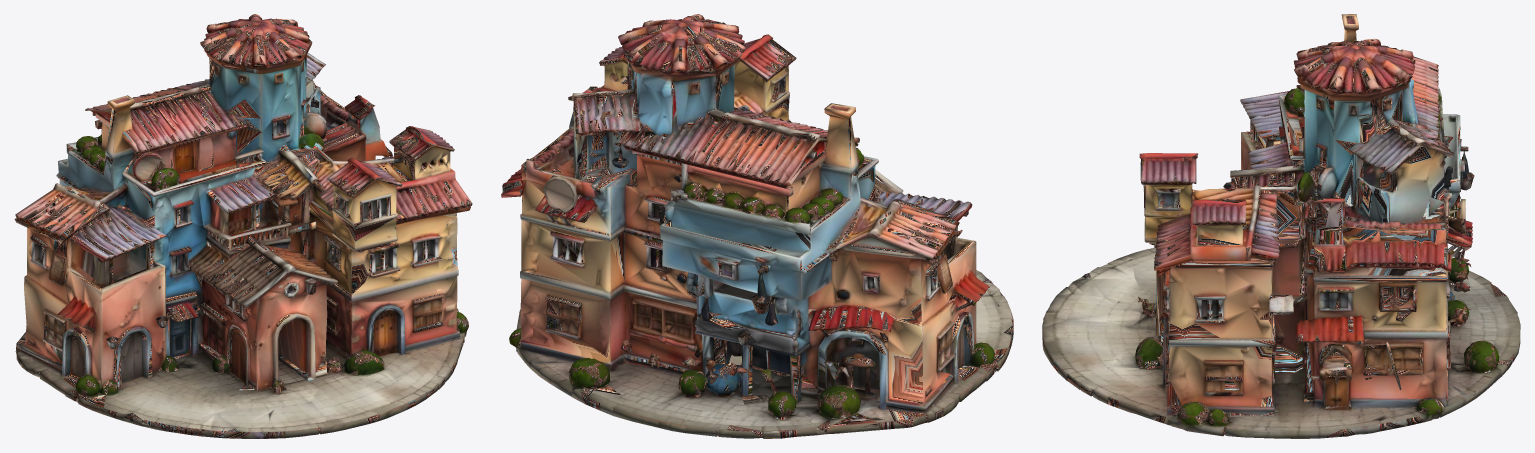
The model's file is Colorful_Courtyard_Vi.glb.
3 renders of one model, left to right at view 1: azimuth 30°, elevation 25°; view 2: azimuth 150°, elevation 25°; view 3: azimuth 270°, elevation 25°, orthographic. The views are drawn at different scales.
Visible parts, largest first — view 1: Colorful_Courtyard_Vi; view 2: Colorful_Courtyard_Vi; view 3: Colorful_Courtyard_Vi.
Boxes of the visible parts, left/top/right/bottom form: Colorful_Courtyard_Vi: left=14, top=14, right=472, bottom=438; Colorful_Courtyard_Vi: left=501, top=14, right=1013, bottom=438; Colorful_Courtyard_Vi: left=1042, top=14, right=1520, bottom=438.
Size of the model in its own units: 2 by 1.45 by 1.99.
1 material, 1 textured.
